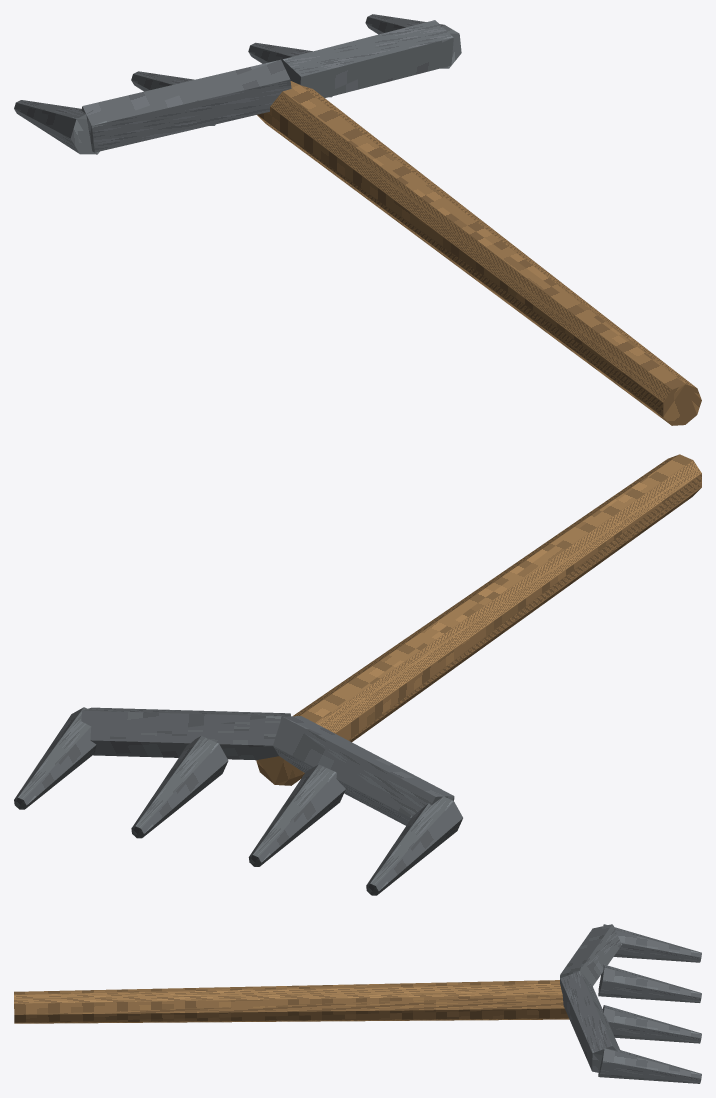
File: pitchfork.glb
3 renders of one model, top to bottom at view 1: azimuth 30°, elevation 25°; view 2: azimuth 150°, elevation 25°; view 3: azimuth 270°, elevation 25°, orthographic. The views are drawn at different scales.
Parts seen in each view (by area): view 1: block_handle, block_tooth crossbar 0, block_tooth crossbar 1, block_tine (×4); view 2: block_handle, block_tine (×4), block_tooth crossbar 1, block_tooth crossbar 0; view 3: block_handle, block_tine (×4), block_tooth crossbar 1, block_tooth crossbar 0.
Part boxes in pixels (x1,y1,x2,y2): block_handle: [257, 81, 701, 425]; block_tooth crossbar 0: [81, 59, 291, 152]; block_tooth crossbar 1: [281, 20, 453, 97]; block_tine (×4): [14, 14, 461, 154]; block_handle: [256, 454, 701, 785]; block_tine (×4): [14, 707, 462, 895]; block_tooth crossbar 1: [81, 707, 290, 760]; block_tooth crossbar 0: [273, 716, 454, 825]; block_handle: [14, 980, 569, 1023]; block_tine (×4): [598, 924, 701, 1083]; block_tooth crossbar 1: [560, 971, 619, 1072]; block_tooth crossbar 0: [560, 924, 621, 986].
Bounding box in the file's own units: 0.6478 × 0.1173 × 1.4.
Materials: 1 (1 with a texture image).
